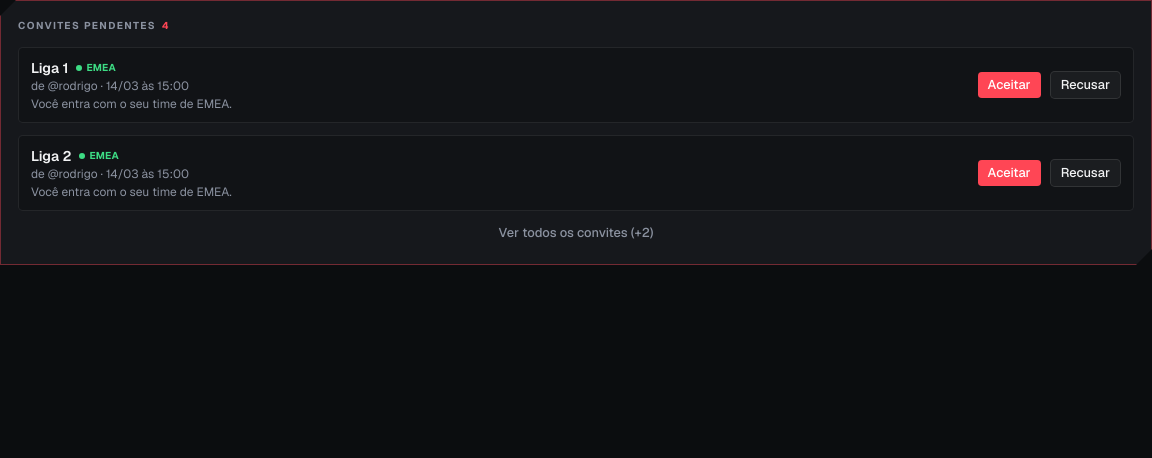
PendingInvites › com mais de 2 convites, mostra 2 e um botão para ver o resto
Expected: the number of list items is 2, [18,47,1134,123]; [18,135,1134,211]
Expected: the text "Liga 3" is not shown
Click the button "Ver todos os convites (+2)" at (576, 233), box [18,219,1134,247]
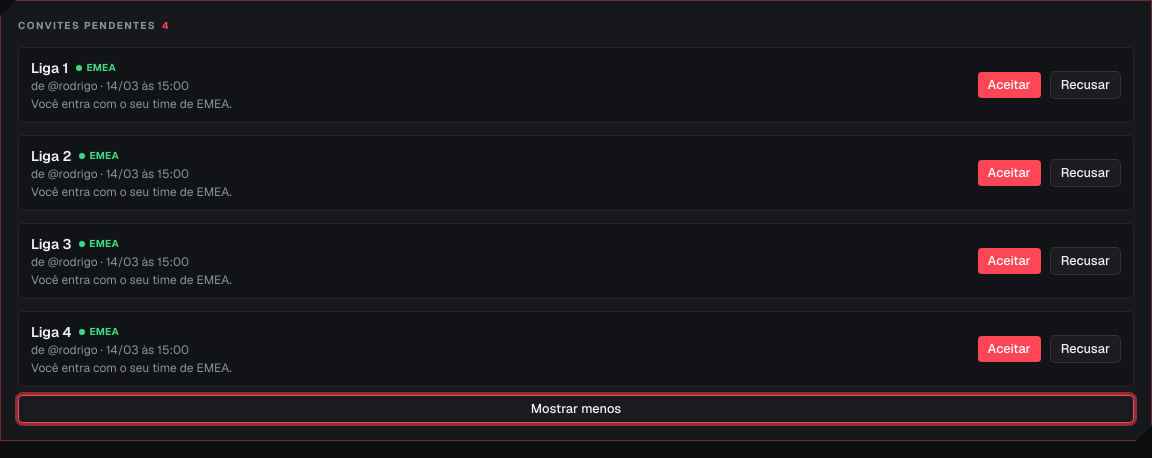
Now the number of list items is 4, box [18,47,1134,123]; [18,135,1134,211]; [18,223,1134,299]; [18,311,1134,387]
Now the text "Liga 4" is shown, box [31,323,71,341]
Now the button "Mostrar menos" is expanded, box [18,395,1134,423]
